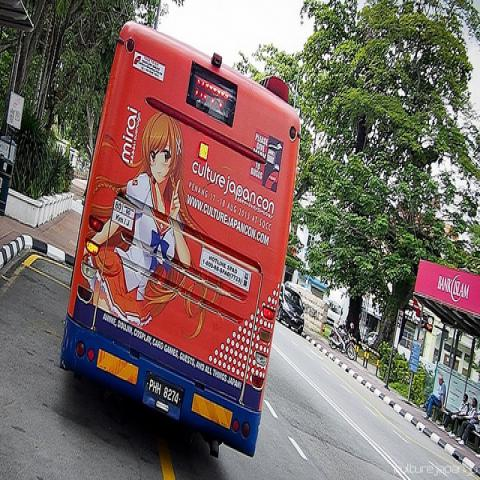bus: (58, 22, 301, 460)
car: (276, 283, 305, 335)
motorcycle: (326, 325, 356, 361)
